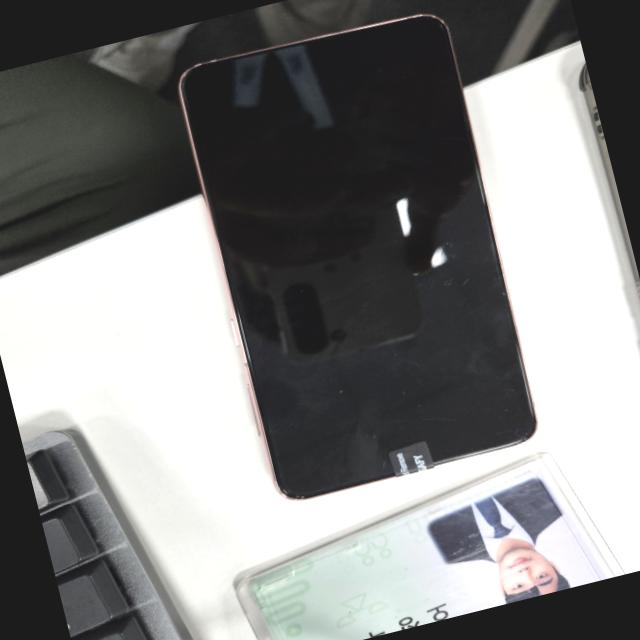phone: (164, 0, 553, 504)
sticker: (384, 437, 434, 479)
